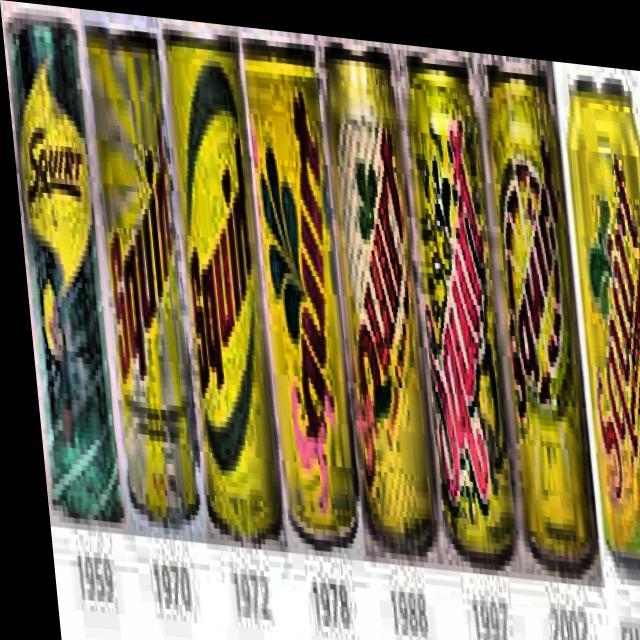can: (160, 16, 278, 543), (478, 45, 594, 578), (238, 28, 356, 551), (316, 31, 434, 552), (398, 46, 514, 569), (2, 8, 119, 525), (84, 19, 195, 538), (560, 49, 640, 600)
